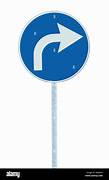right: (19, 11, 91, 82)
